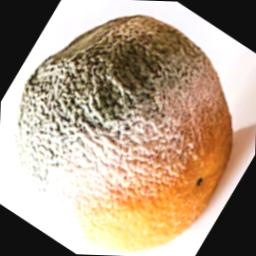Orange Rotten: (8, 0, 256, 256)
